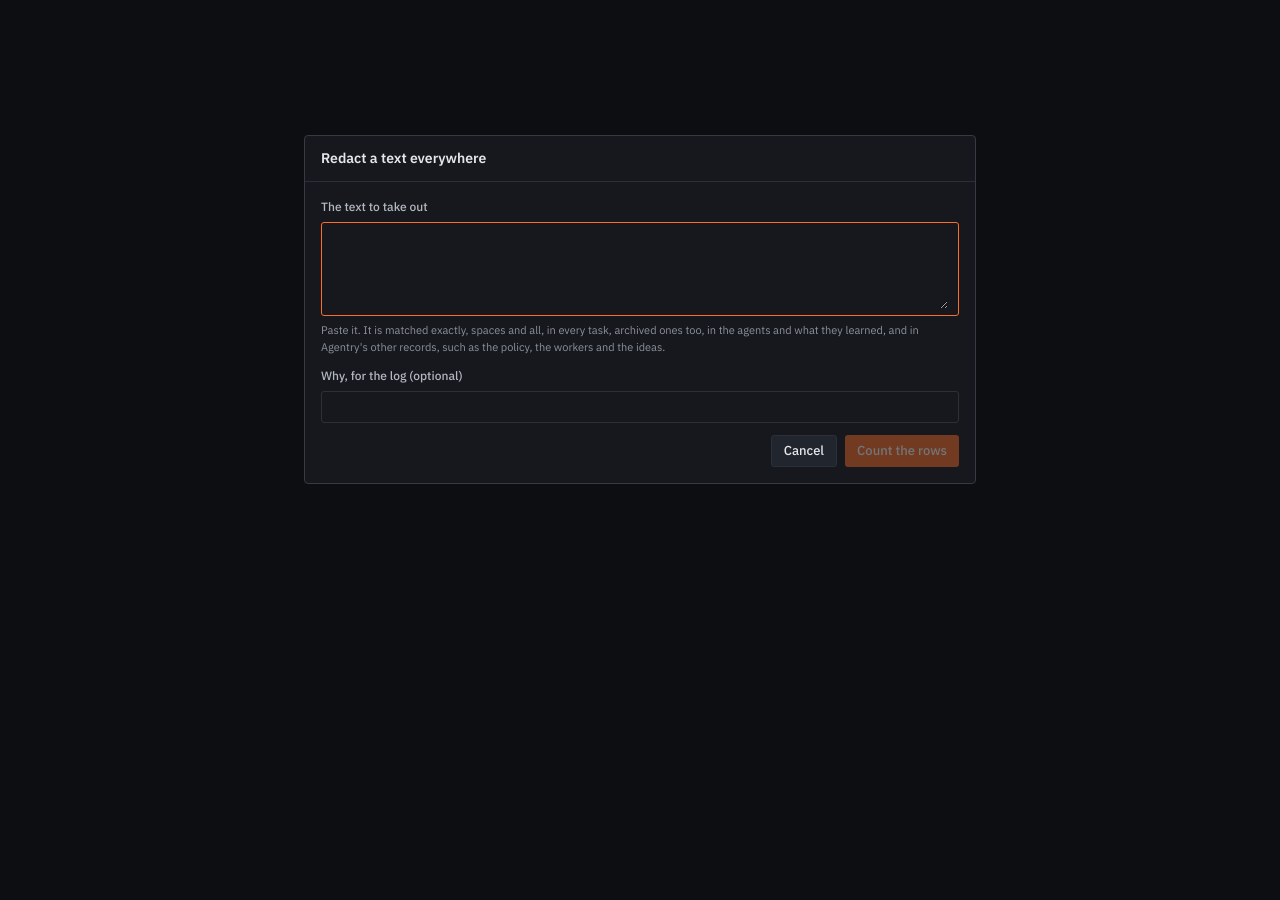
Test: RedactLog › lists each stream's rows first, archived marked and failures named, and redacts nothing yet
In the text box labelled "The text to take out": (640, 269) top-left (332, 229), bottom-right (948, 309), type "sk-live-0123456789"
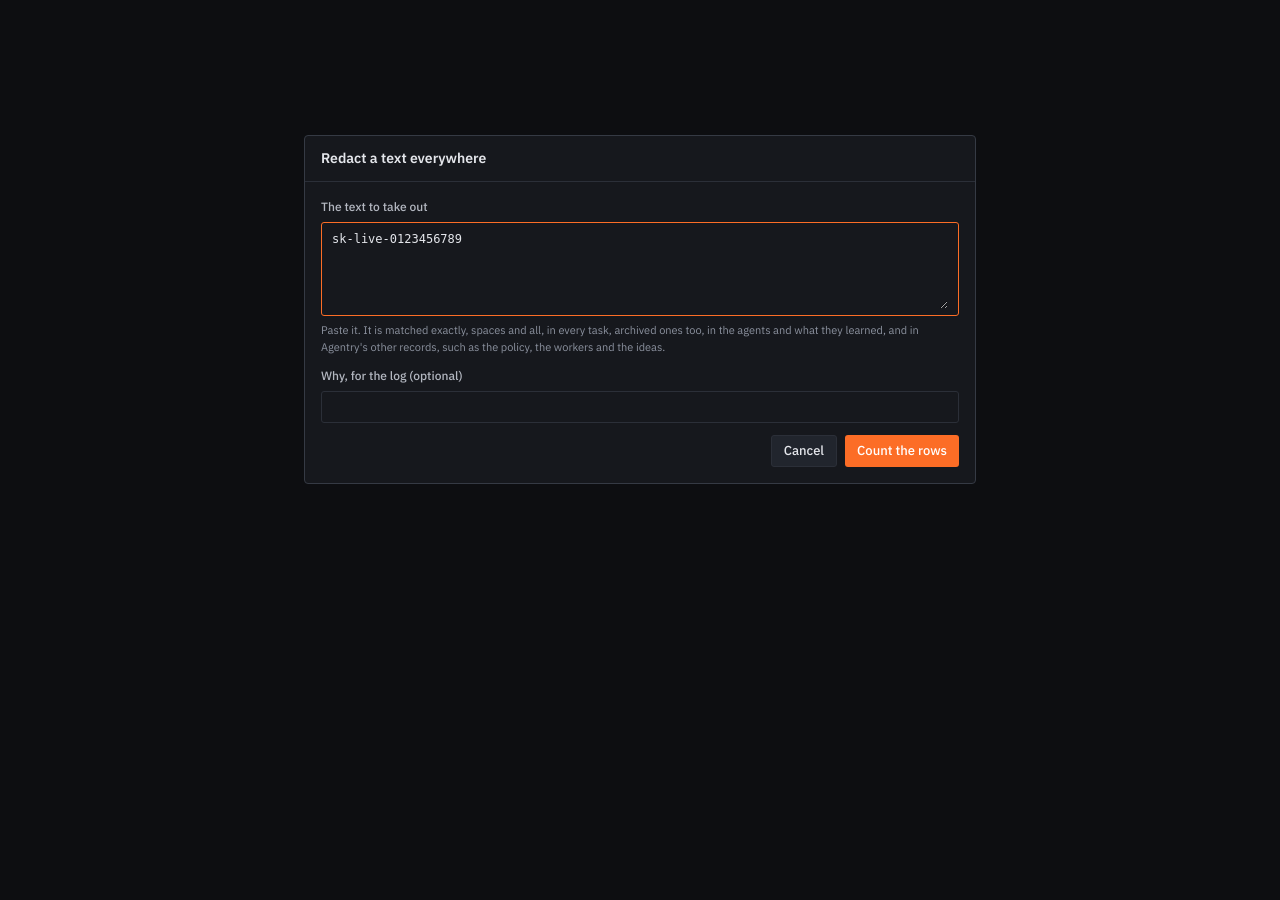
In the field labelled "Why, for the log (optional)": (640, 407) top-left (332, 392), bottom-right (948, 422), type "pasted everywhere"
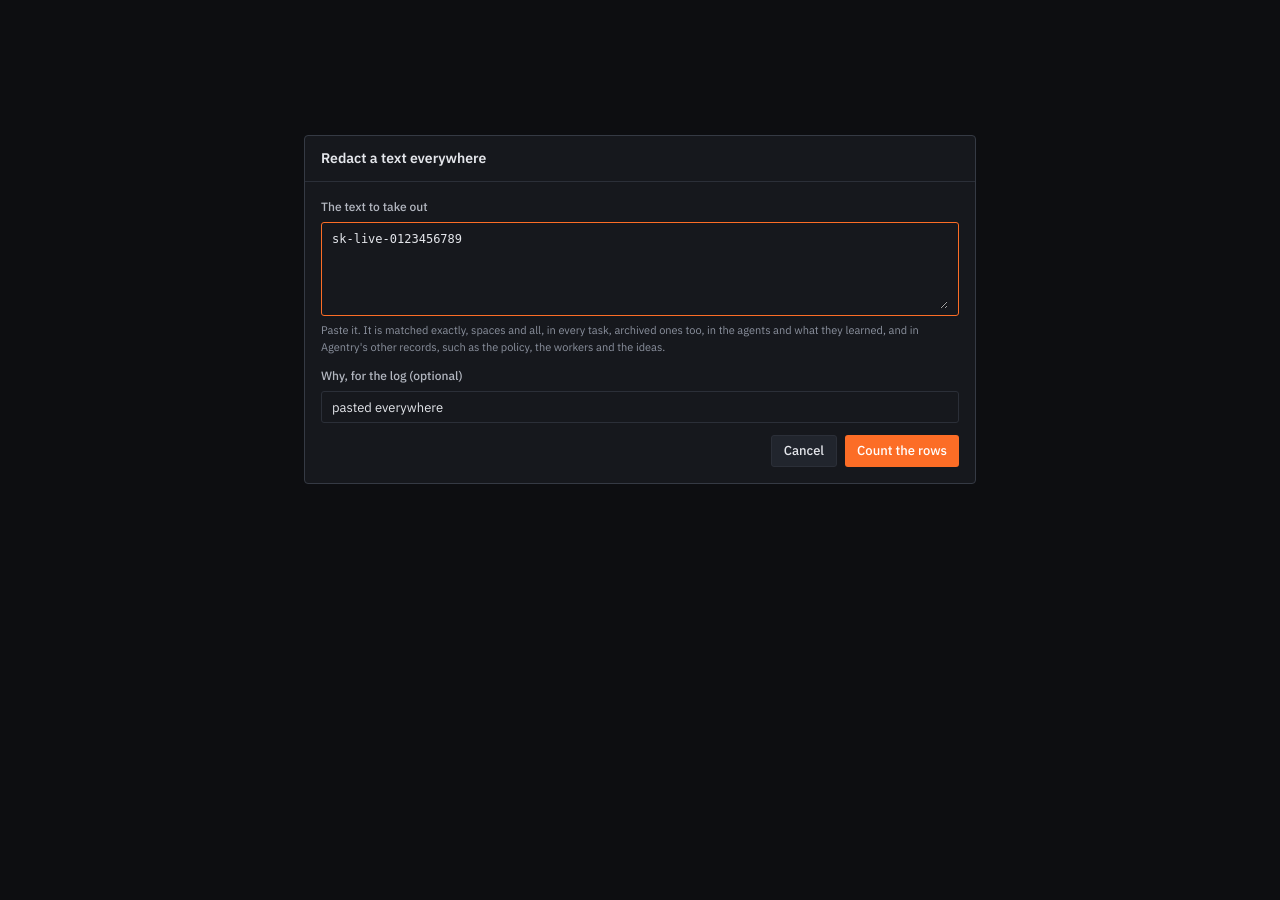
Click the button "Count the rows": (902, 451) top-left (845, 435), bottom-right (959, 467)
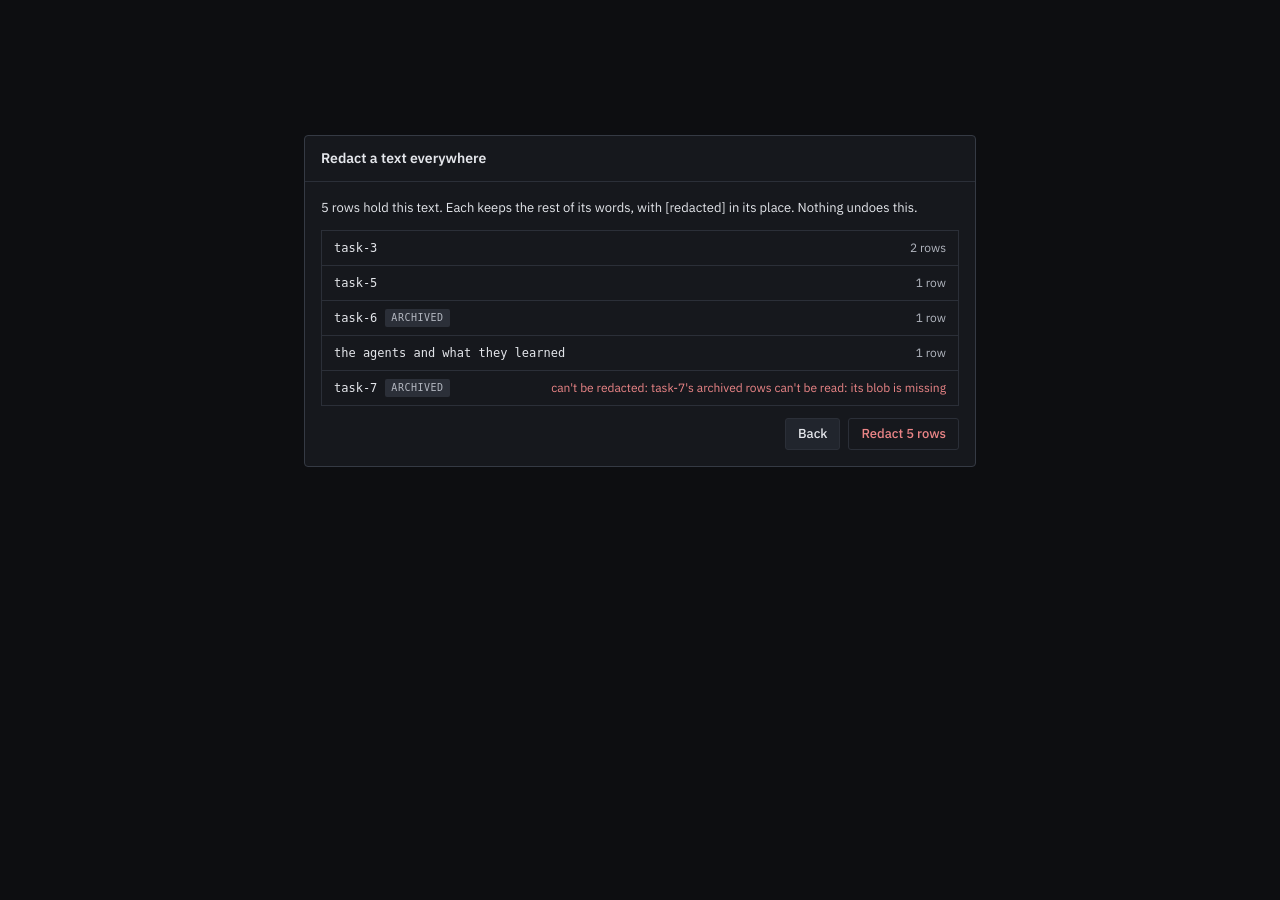
Expected: the text "5 rows hold this text." is shown, top-left (321, 198), bottom-right (959, 218)
Expected: the text "2 rows" is shown, top-left (910, 238), bottom-right (946, 256)
Expected: the text "archived" next to "task-6" is shown, top-left (391, 312), bottom-right (444, 323)
